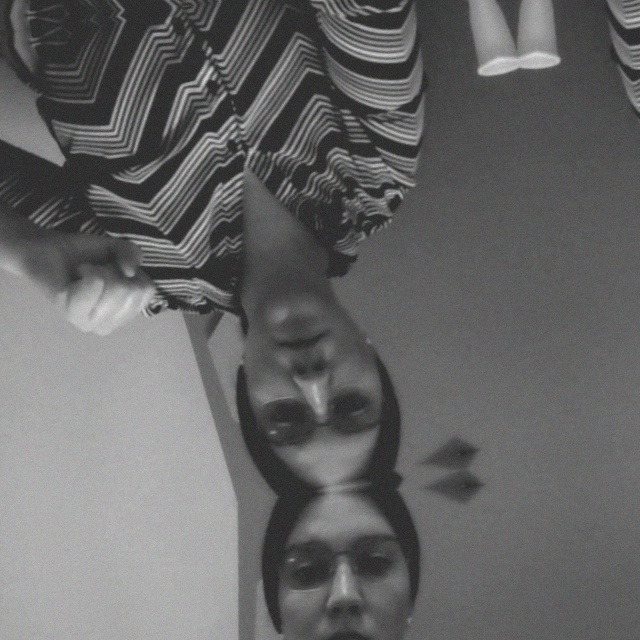Rock: (17, 215, 178, 352)
